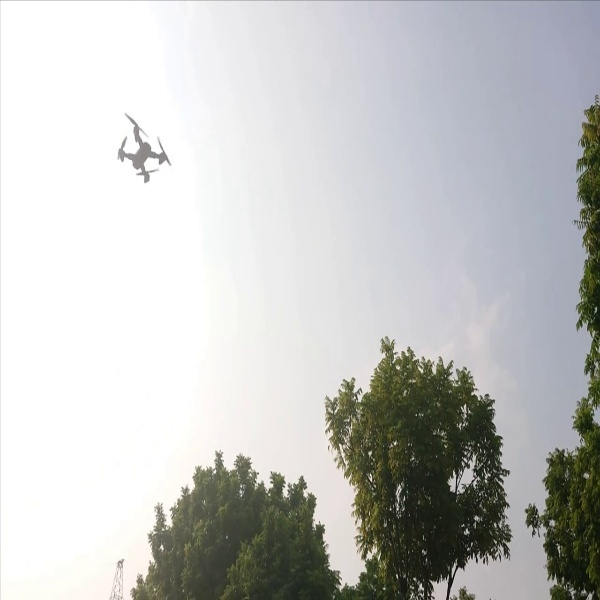drone: (103, 107, 175, 187)
